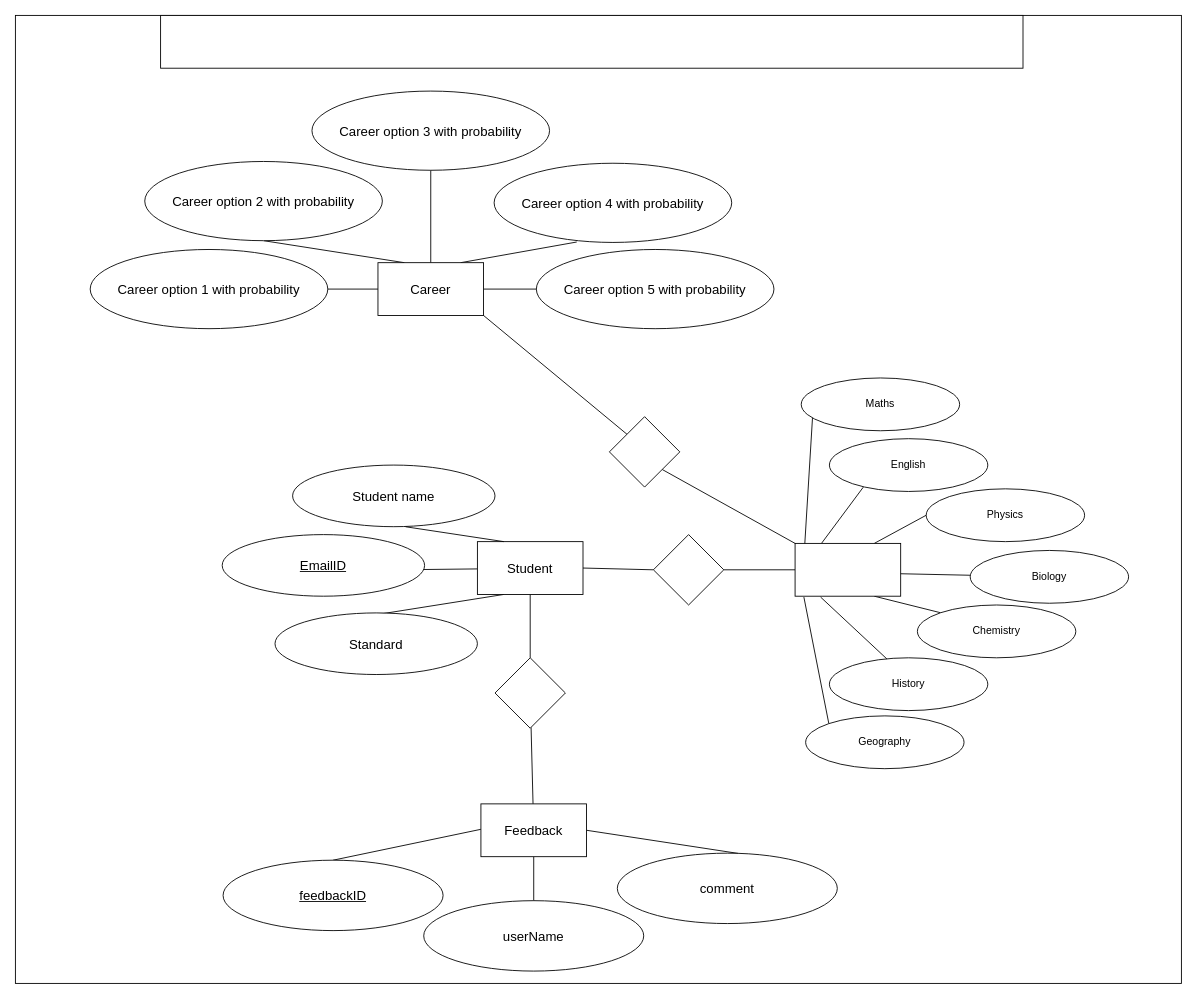
Some shapes in this 1197 by 999 pixel diagram are drawn without their labels. The shapes that lost their labels are listed below. From the top down, each one's box as (x1, y1, x2, y2) in pixels, then its label:
(160, 15, 1023, 68): ER Diagram for career recommendation system
(609, 416, 680, 487): helps in predicting
(653, 534, 724, 605): enters
(794, 543, 901, 596): Marks
(494, 657, 565, 728): gives
